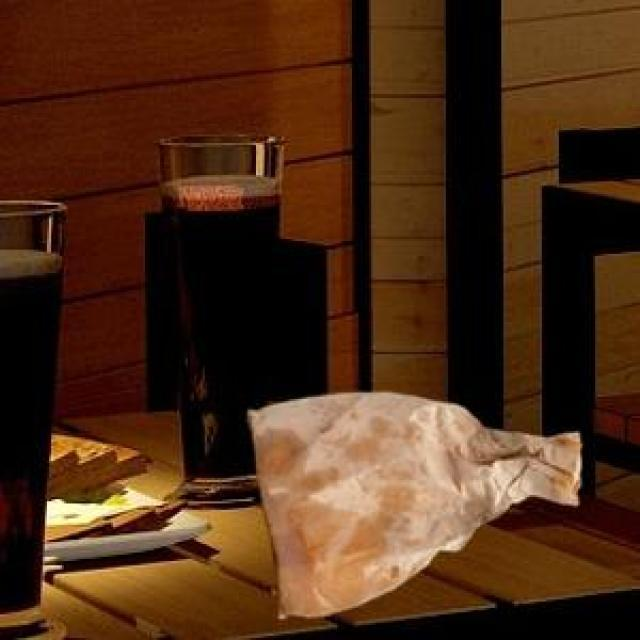paper: (243, 388, 576, 614)
